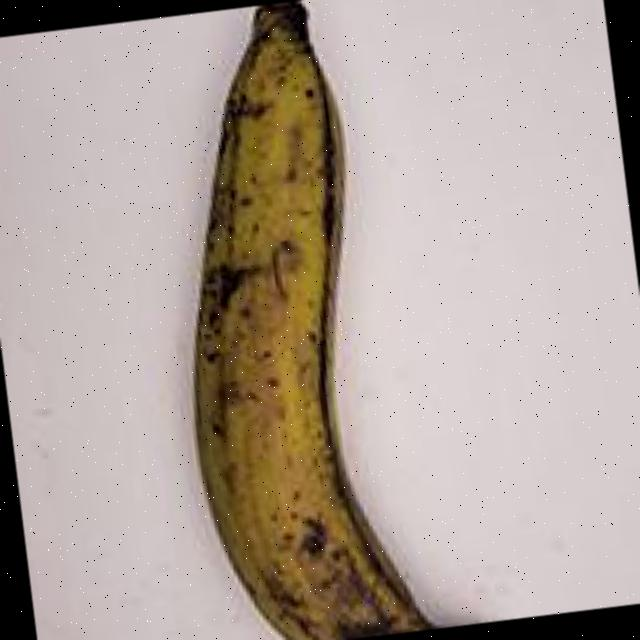Overripe: (102, 0, 537, 640)
